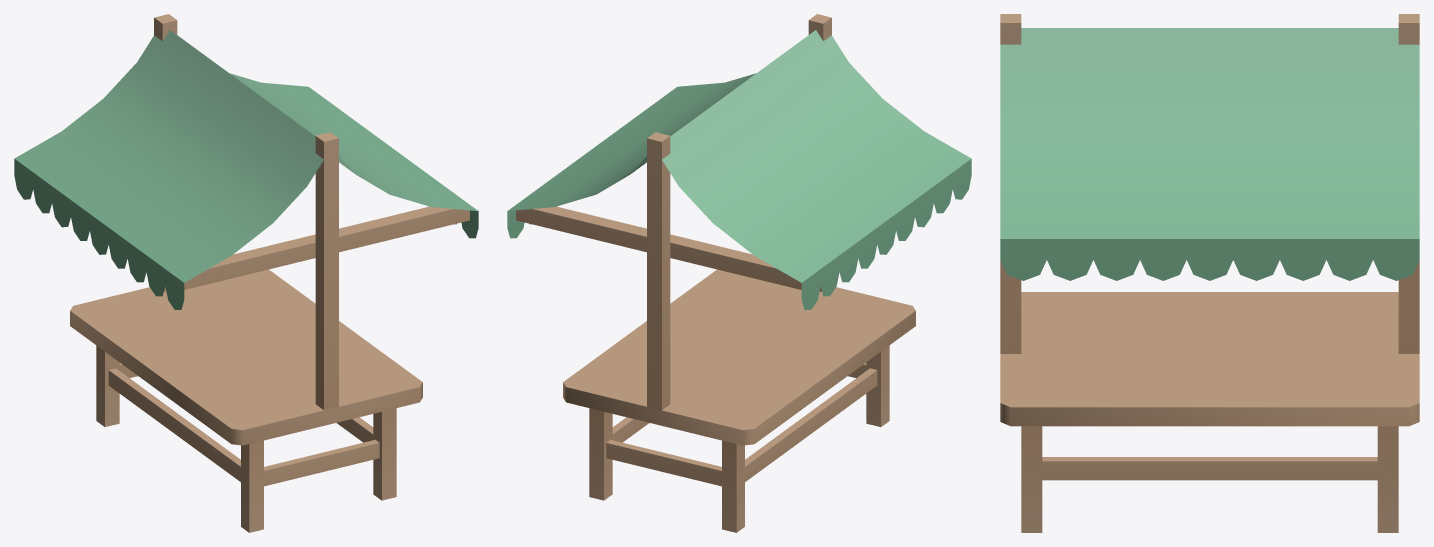
Rendered from market_stall_b.obj.
The picture shows the model from 3 angles, left to right: view 1: azimuth 30°, elevation 25°; view 2: azimuth 150°, elevation 25°; view 3: azimuth 270°, elevation 25°; orthographic projection. The views are drawn at different scales.
Parts seen in each view (by area): view 1: stall-green; view 2: stall-green; view 3: stall-green.
Part boxes in pixels (x1,y1,x2,y2): stall-green: (14,14,478,532); stall-green: (507,14,971,532); stall-green: (1000,14,1419,532).
Bounding box in the file's own units: 7.07 × 8.74 × 7.07.
Materials: 1 (1 with a texture image).
